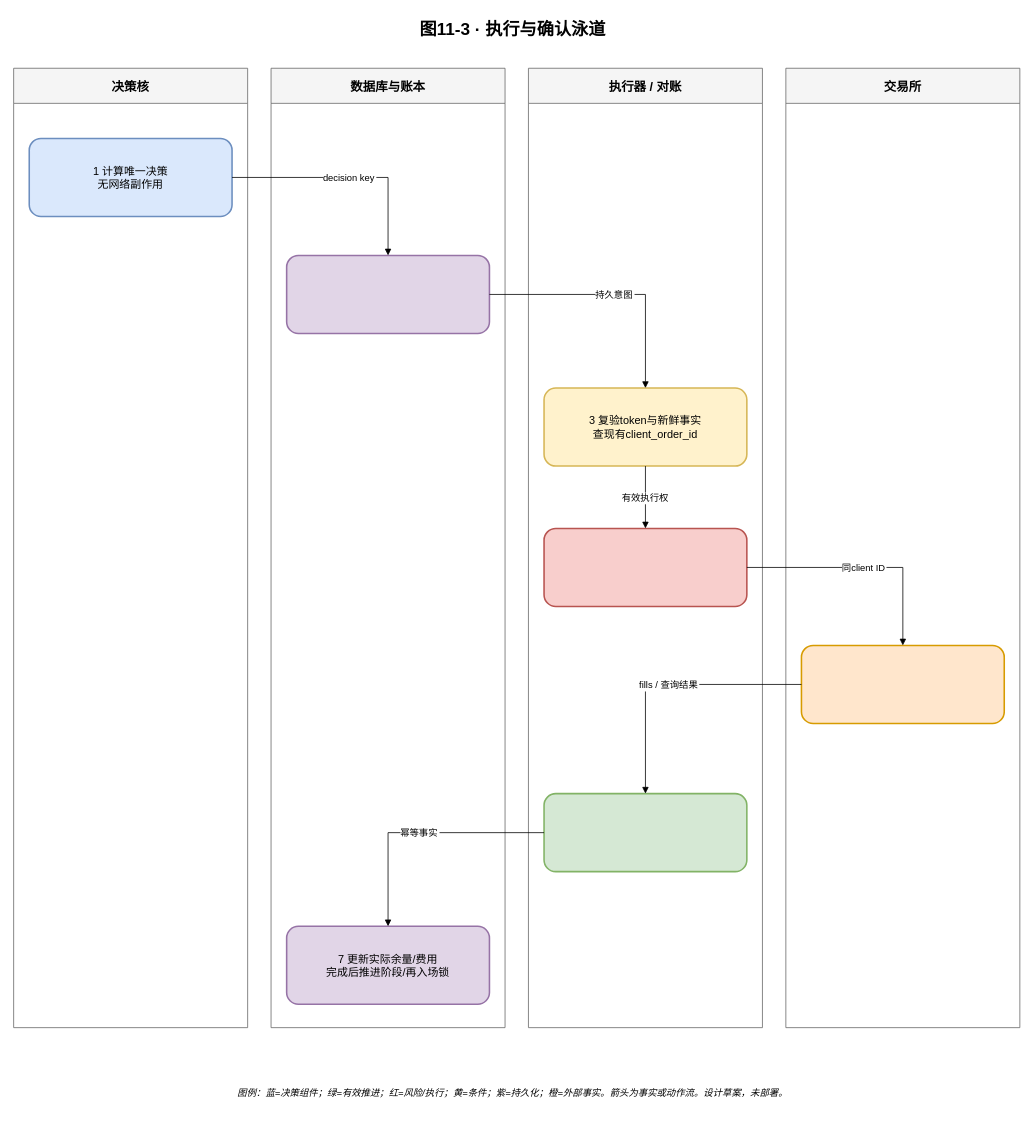
Some shapes in this 1034 by 1142 pixel diagram are drawn without their labels. Each missing label, with the centre of its shape:
"2 CAS状态 + decision + intent 同一事务提交" goes at (x=387, y=294).
"4 只发送净差额 reduce-only" goes at (x=645, y=567).
"5 接收订单 ACCEPTED不是FILLED" goes at (x=902, y=684).
"6 超时查同ID 唯一trade_id累计fills" goes at (x=645, y=832).
